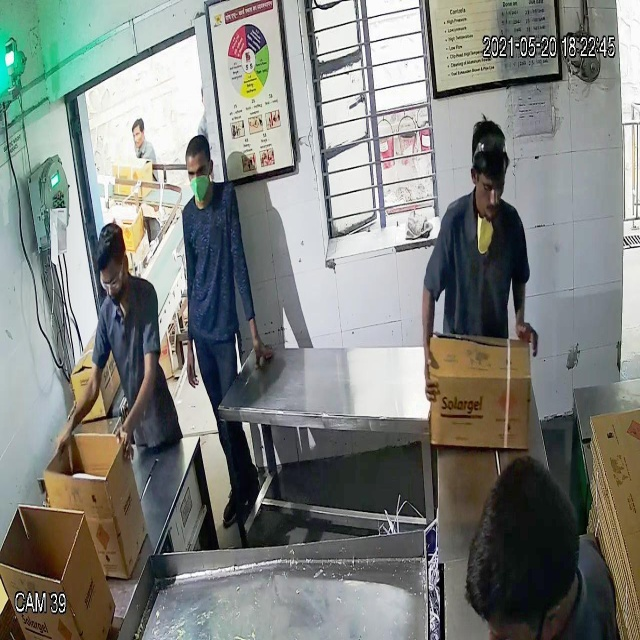Gafas: (96, 265, 128, 295)
Sin_gafas: (467, 164, 507, 198), (183, 156, 211, 183)
